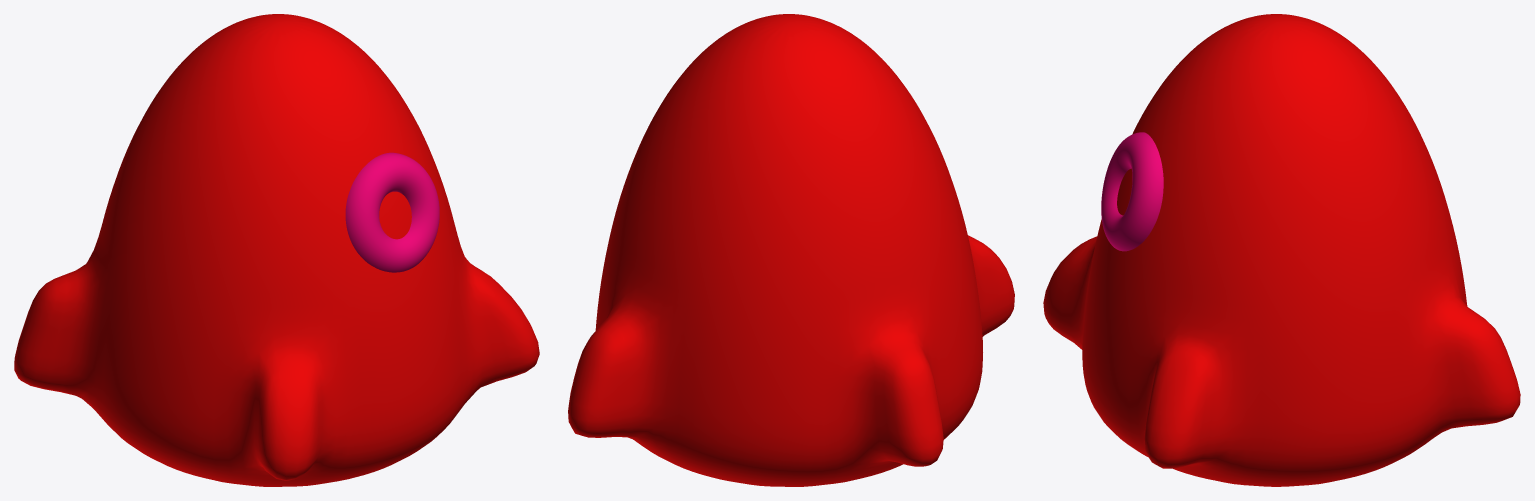
Rendered from RocketBalloon.fbx.
The picture shows the model from 3 angles, left to right: view 1: azimuth 30°, elevation 25°; view 2: azimuth 150°, elevation 25°; view 3: azimuth 270°, elevation 25°; orthographic projection.
Visible parts, largest first — view 1: RocketBalloon, Window; view 2: RocketBalloon; view 3: RocketBalloon, Window.
Boxes of the visible parts, x1=… form: RocketBalloon: x1=14, y1=14, x2=539, y2=486; Window: x1=345, y1=152, x2=439, y2=272; RocketBalloon: x1=568, y1=14, x2=1014, y2=486; RocketBalloon: x1=1043, y1=14, x2=1520, y2=486; Window: x1=1101, y1=132, x2=1163, y2=251.
Size of the model in its own units: 71.37 by 70.11 by 71.93.
